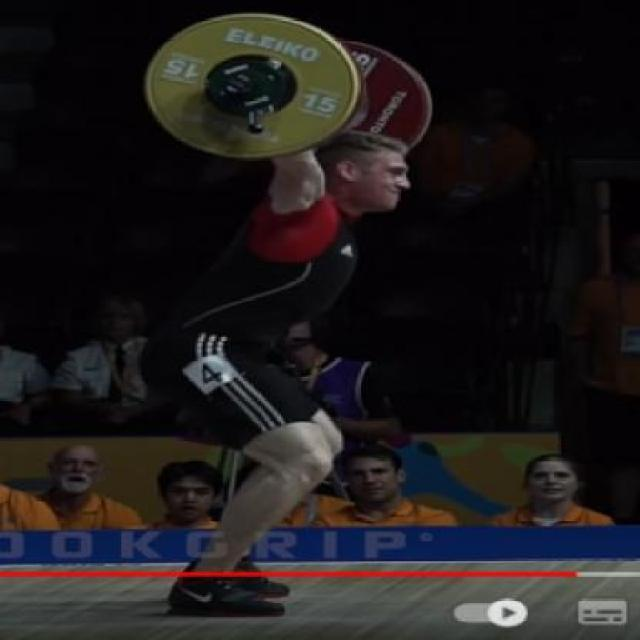barbell: (134, 10, 377, 170)
